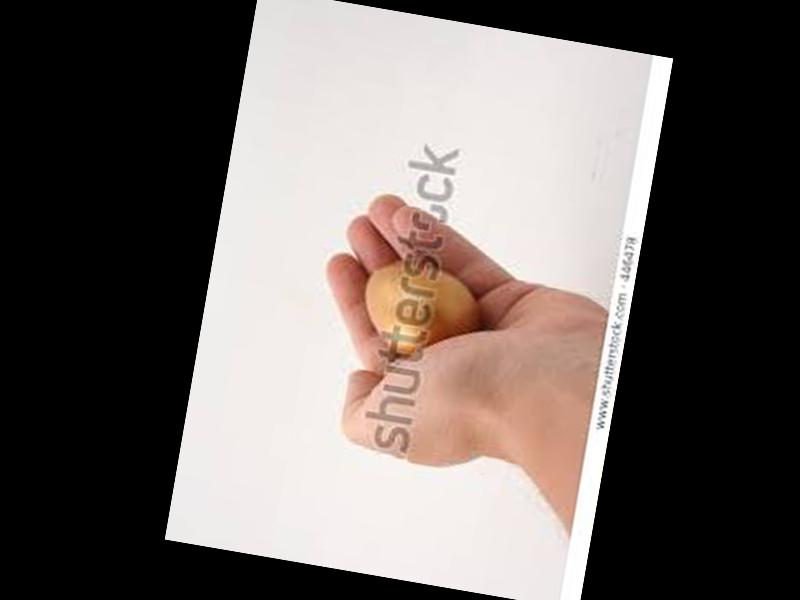Eggs: (357, 256, 484, 362)
